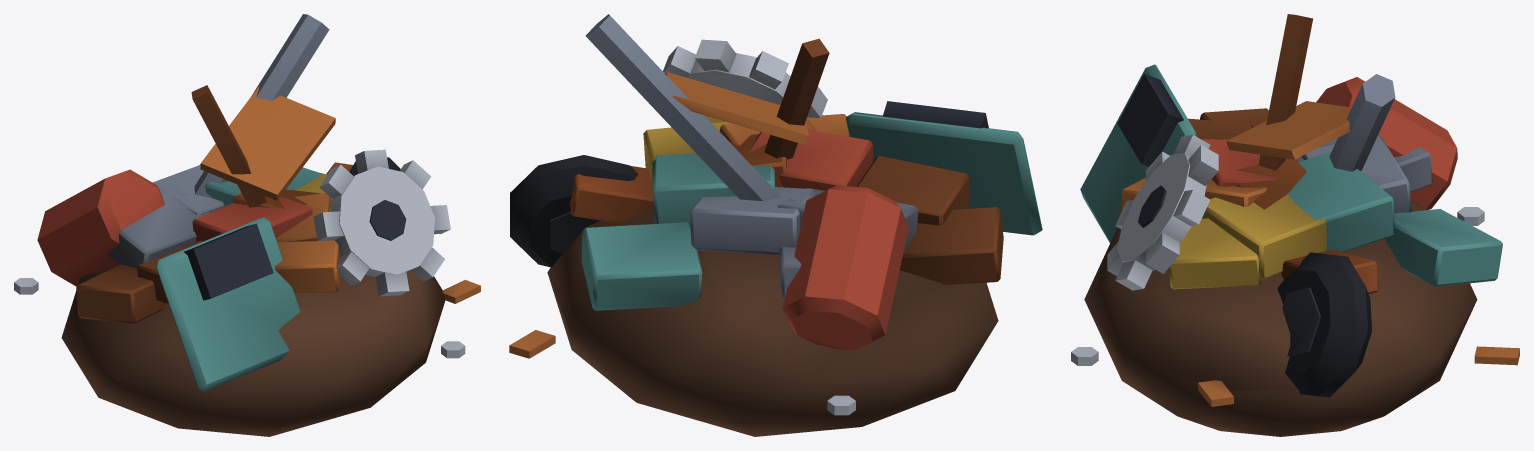
File: n_scrap_1.glb
The picture shows the model from 3 angles, left to right: view 1: azimuth 30°, elevation 25°; view 2: azimuth 150°, elevation 25°; view 3: azimuth 270°, elevation 25°; orthographic projection. The views are drawn at different scales.
Visible parts, largest first — view 1: body; view 2: body; view 3: body.
Boxes of the visible parts, x1,y1,x2,y2 form: body: (14,14,480,436); body: (509,14,1042,436); body: (1071,14,1519,436).
Bounding box in the file's own units: 2.52 × 2.16 × 2.28.
